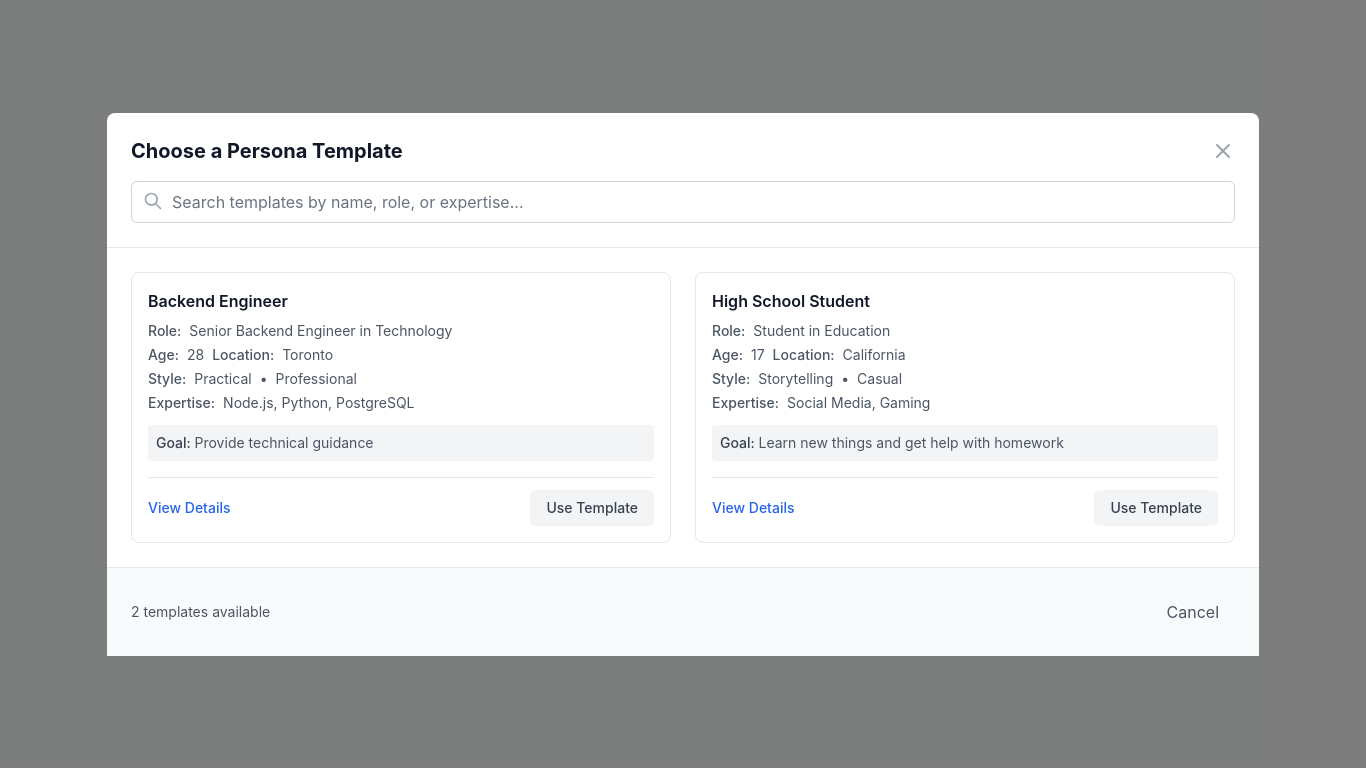
Test case: TemplateSelector › should filter templates based on search
The width and height of the screenshot is (1366, 768).
In the field with placeholder "Search templates by name, role, or expertise...": x=683, y=202 [131, 180, 1235, 222], type "engineer"
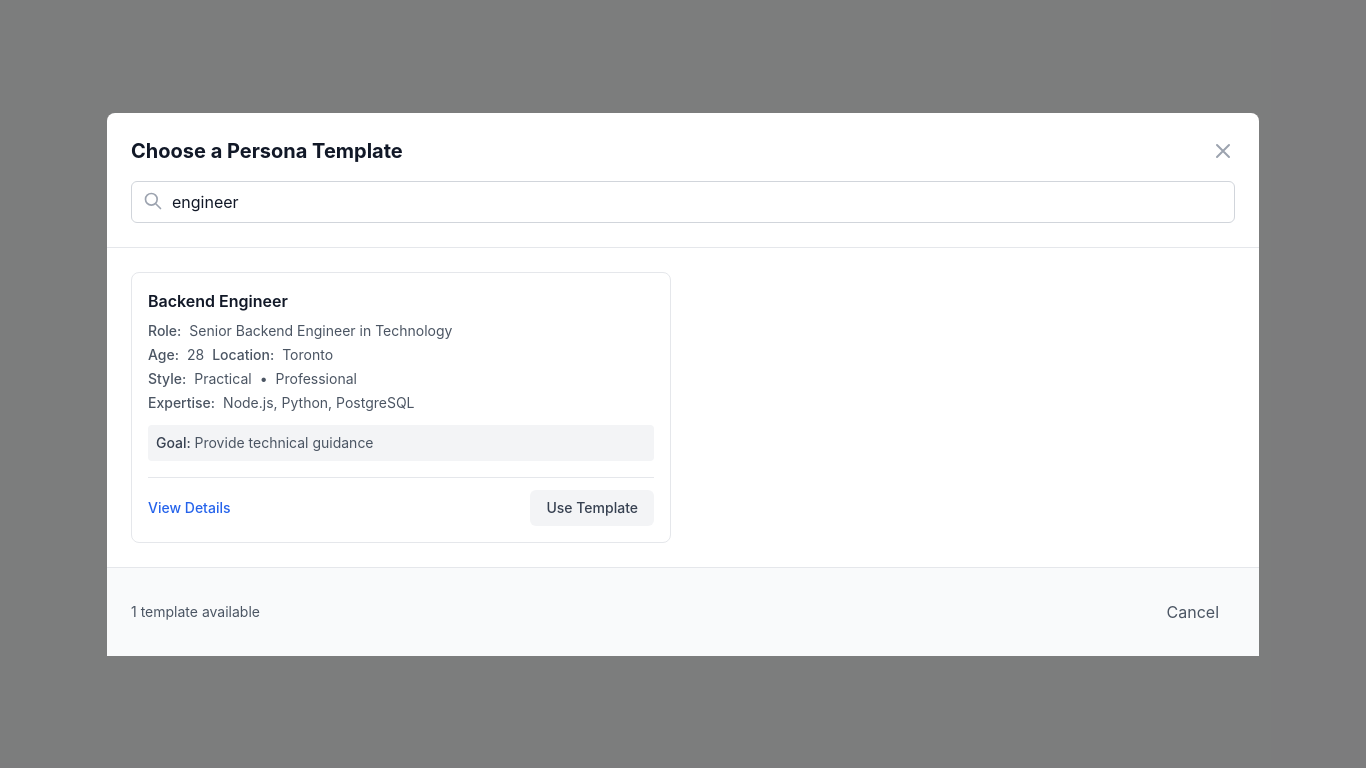
Expected: the heading "Backend Engineer" is shown, [148, 290, 288, 310]
Result: the heading "High School Student" is gone
